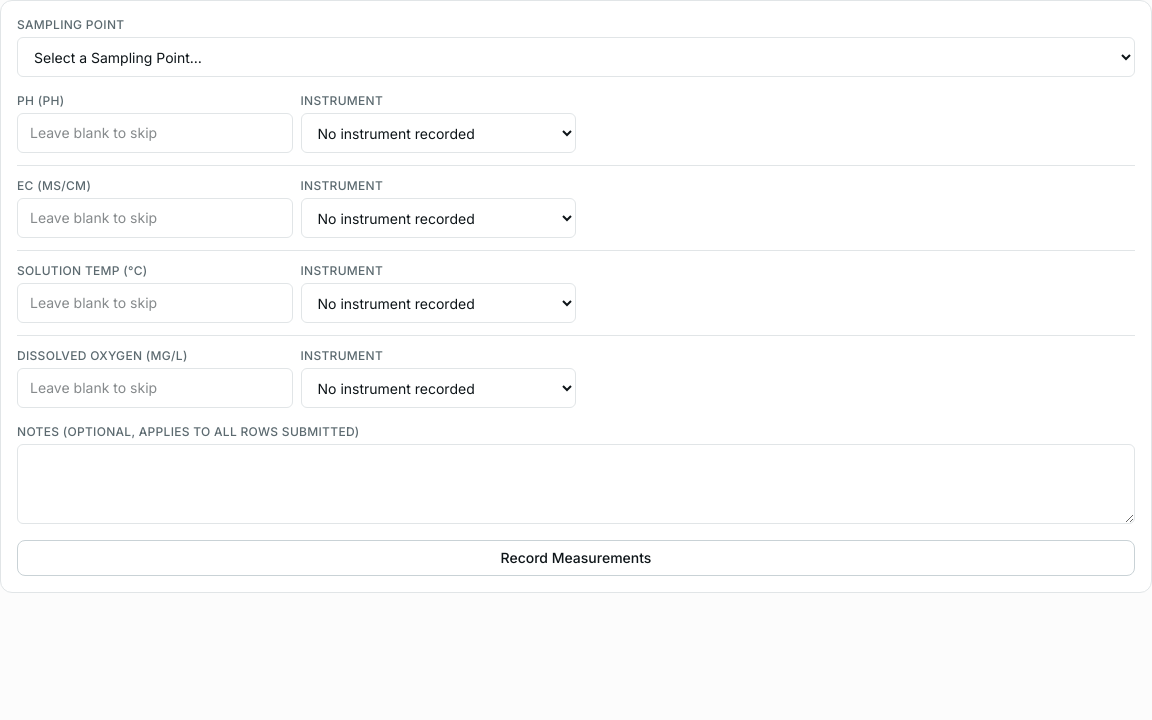
MeasurementWorksheet (PILOT-WATER-001B multi-metric entry) › refuses to submit with no metric filled in, rather than sending a blank/zero reading
Select "SP-1 — Tank A Sampling Point (Reservoir)" in the dropdown labelled "Sampling Point" at (576, 57), box [17,37,1135,77]
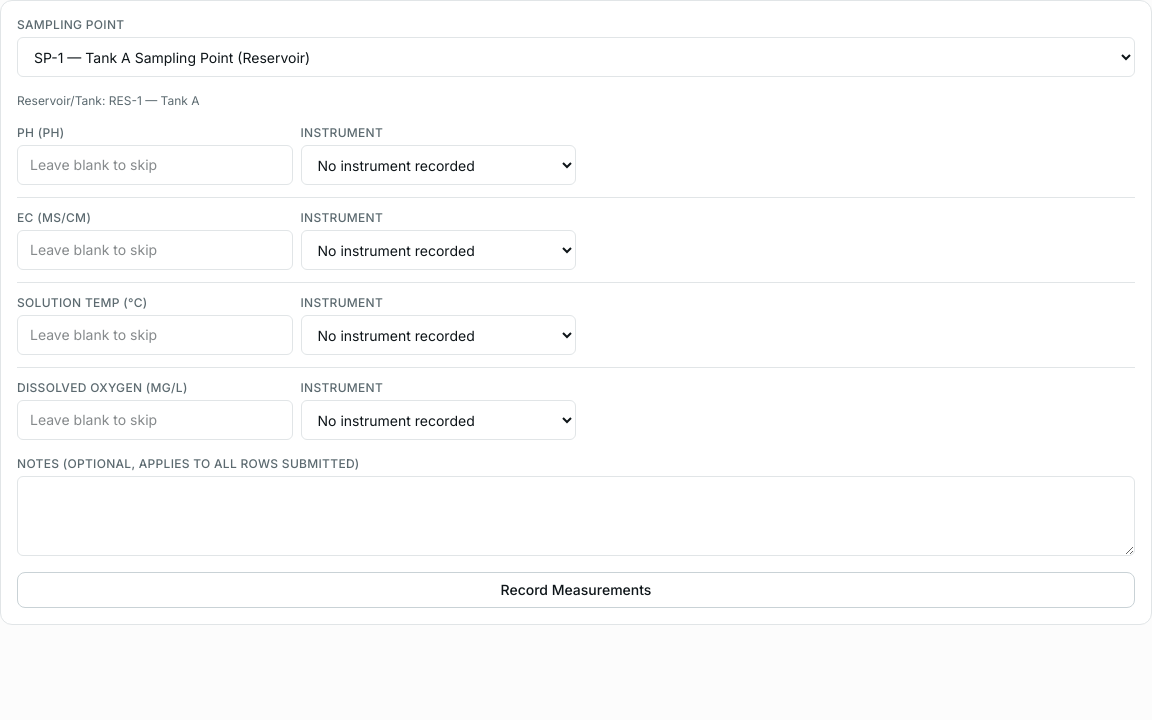
Click the button "Record Measurements".
click(576, 590)  # box [17,572,1135,608]
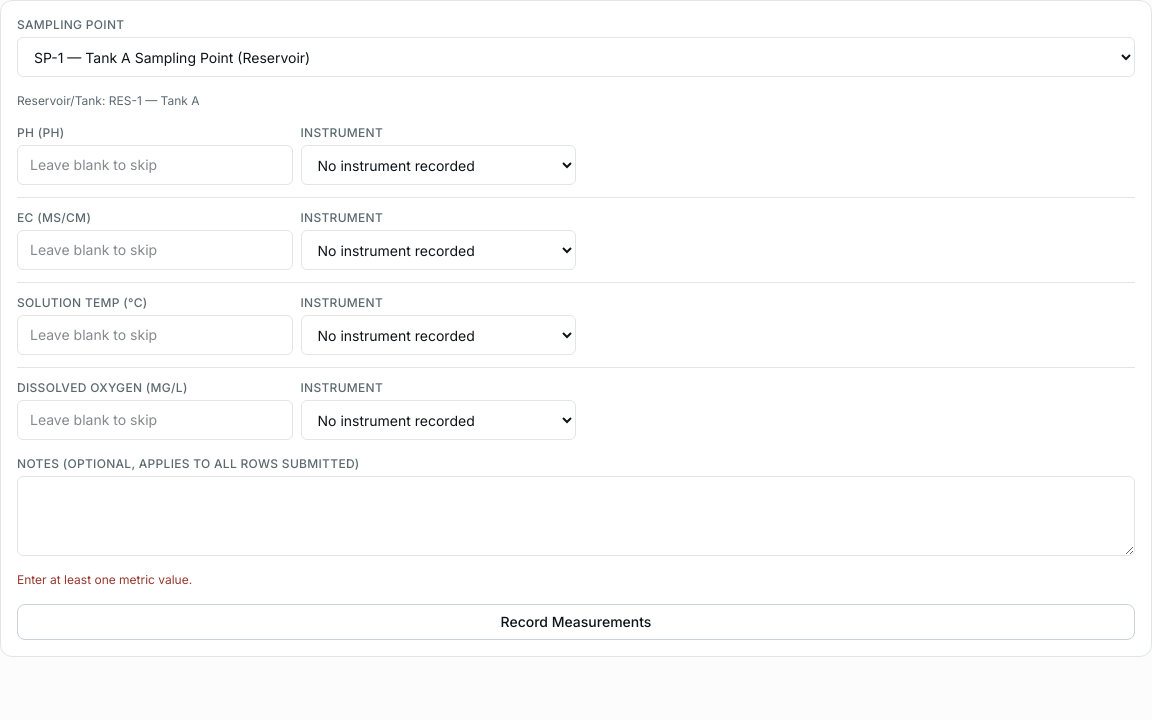
Expected: the text "Enter at least one metric value." is shown, [17,572,192,587]
